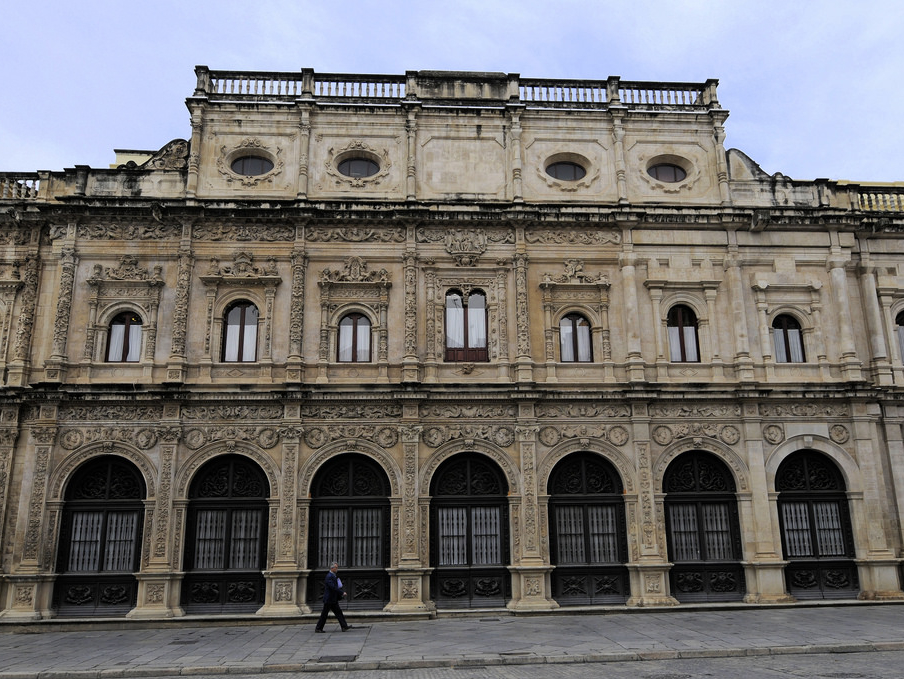arco-medio-punto: (46, 437, 159, 508), (170, 437, 283, 508), (295, 436, 405, 506), (534, 435, 642, 502), (764, 429, 867, 499), (417, 435, 523, 502), (650, 434, 756, 501), (214, 289, 268, 325), (328, 300, 381, 335), (551, 301, 603, 335), (659, 292, 709, 327), (95, 300, 151, 330), (766, 304, 815, 335)
ojo-de-buey: (329, 143, 387, 181), (538, 147, 596, 185), (222, 140, 279, 178), (644, 150, 701, 186)
